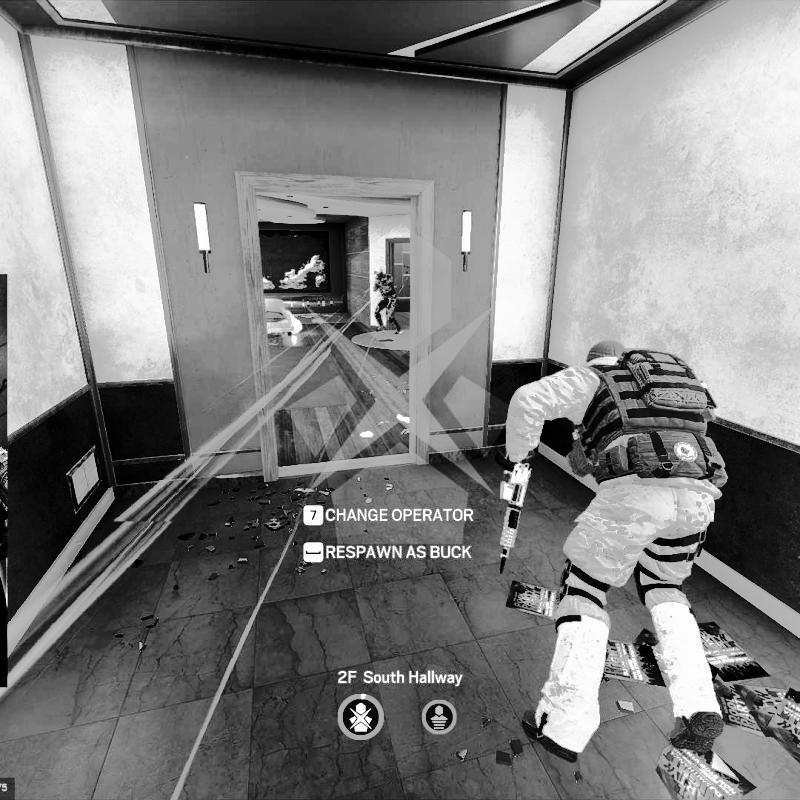Character: (496, 330, 740, 771), (372, 267, 403, 336)
Head: (585, 337, 627, 362), (376, 268, 384, 279)
